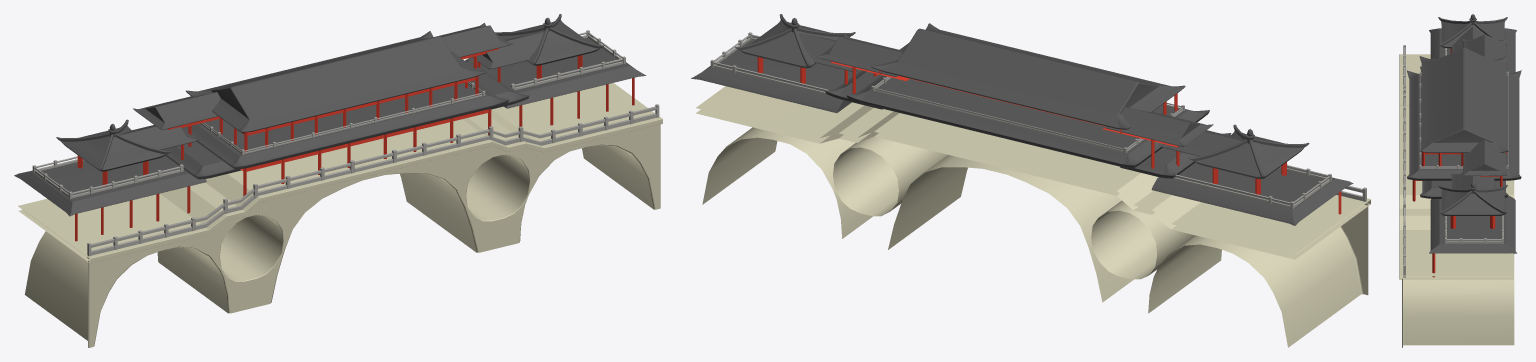
The model's file is AnShunLangQiao.fbx.
3 views of the same model, side by side, from view 1: azimuth 30°, elevation 25°; view 2: azimuth 150°, elevation 25°; view 3: azimuth 270°, elevation 25° (orthographic). The views are drawn at different scales.
Visible parts, largest first — view 1: AnShunLangQiao; view 2: AnShunLangQiao; view 3: AnShunLangQiao.
Boxes of the visible parts, box(x1,y1,x2,y2) form: AnShunLangQiao: box(14, 14, 662, 347); AnShunLangQiao: box(691, 14, 1370, 347); AnShunLangQiao: box(1399, 14, 1521, 347).
Bounding box in the file's own units: 66.96 × 20.83 × 15.48.
